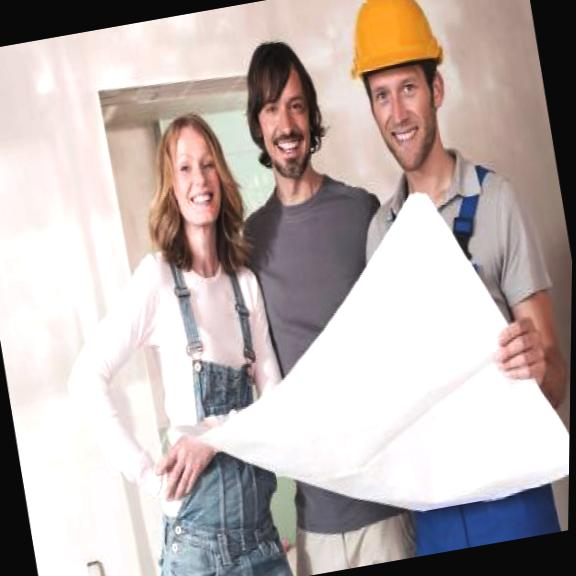no_safety_vest: (343, 125, 574, 525), (233, 161, 435, 528), (98, 229, 311, 532)
